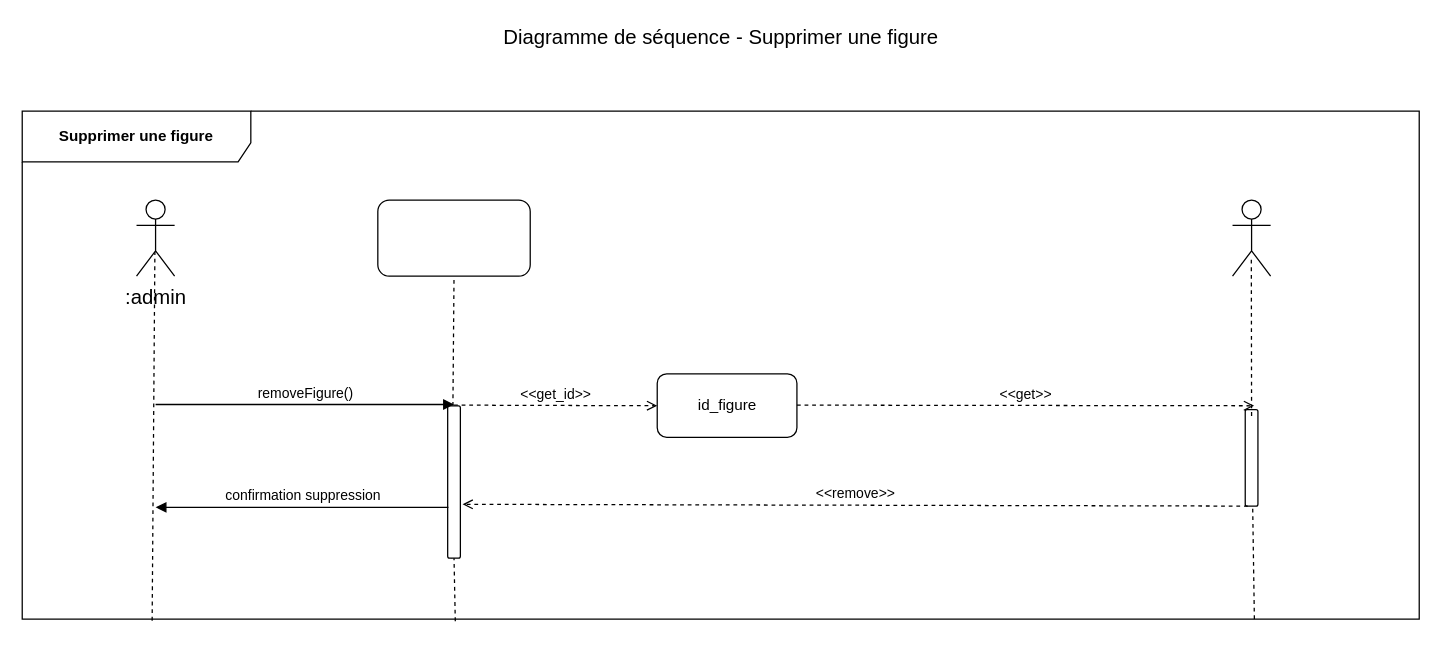
The diagram is 1441 pixels wide and 645 high, and some of its shapes have lost their labels. Here are the shapes that lost their labels. From the top down, the centre of each, then its label:
the point at 453,237: :system
the point at 1251,237: :bdd
